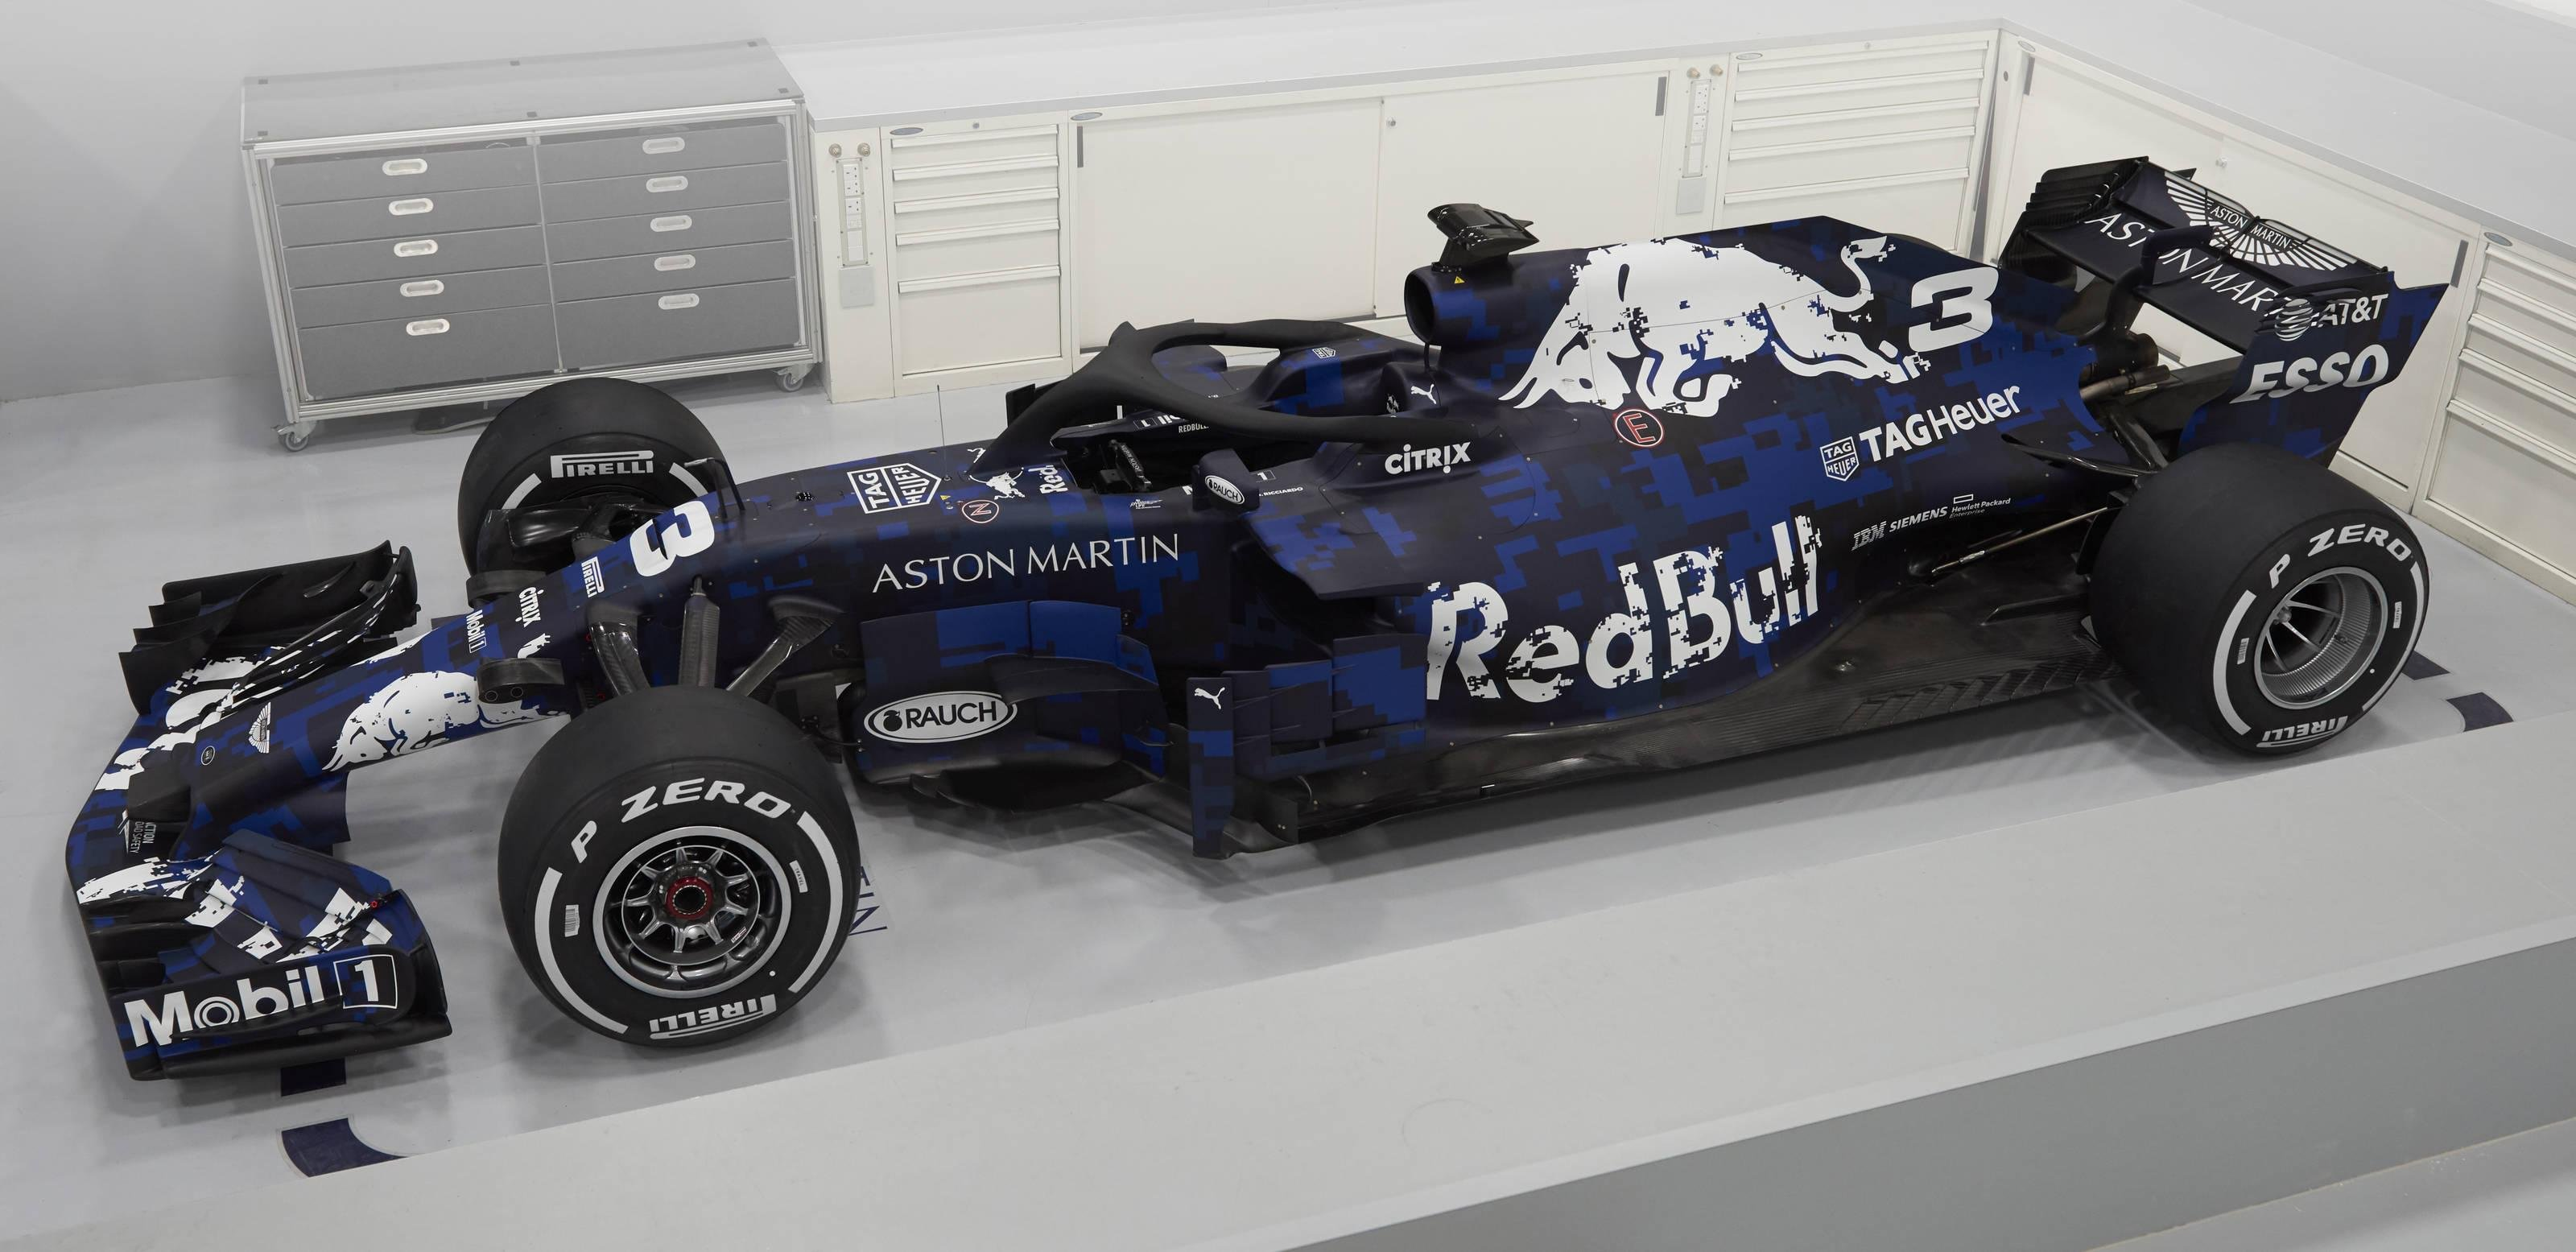f1_car: (53, 128, 2481, 1139)
